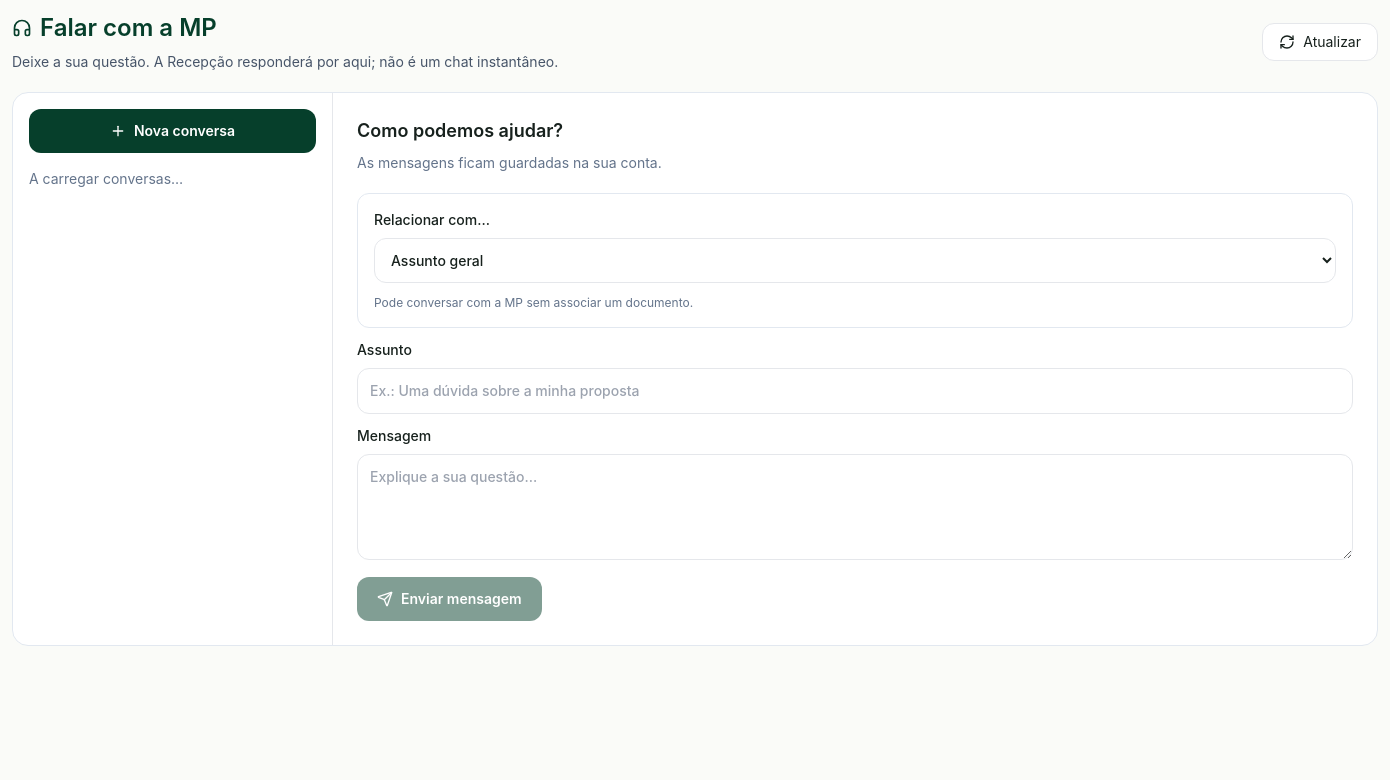
Scenario: SupportDesk › retains the message when sending fails
Type "Ajuda" into the field labelled "Assunto" at [855, 391], box [357, 368, 1353, 414]
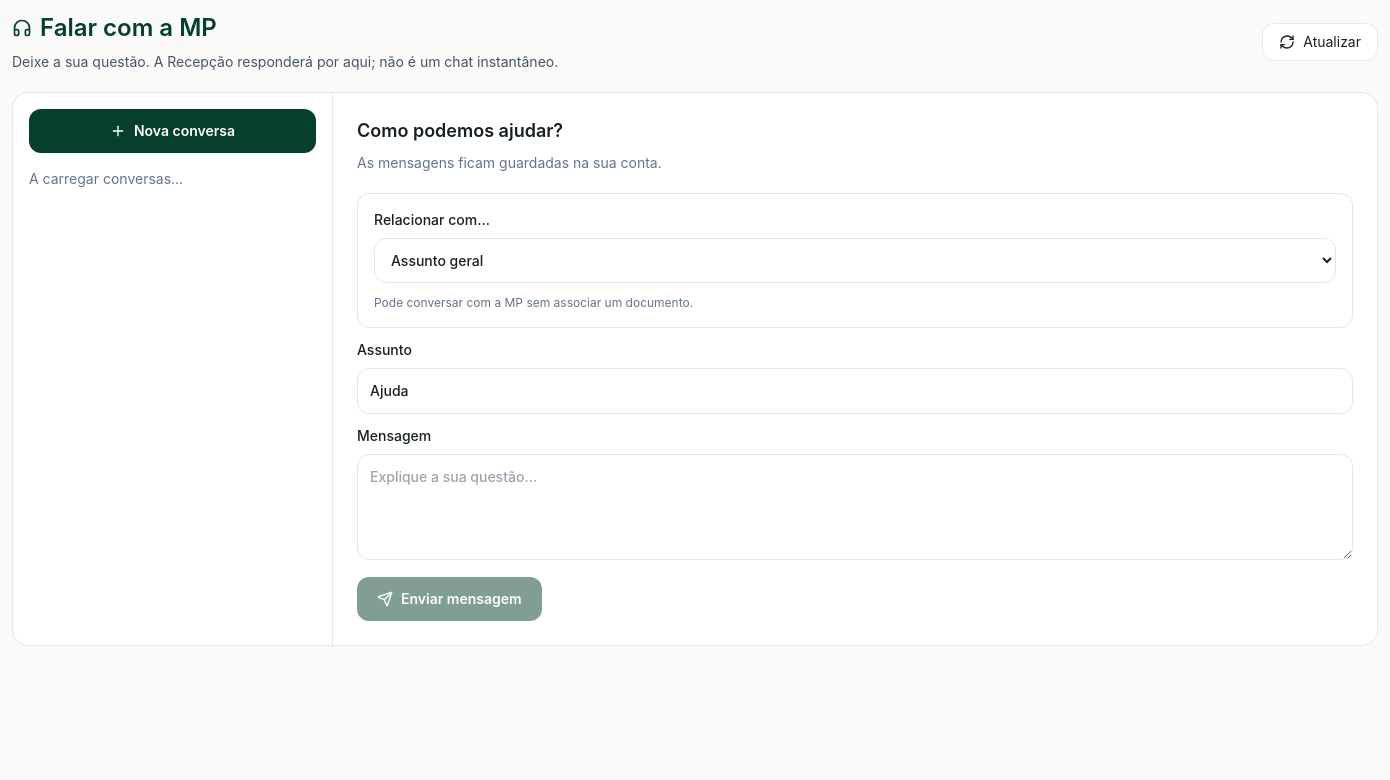
Type "Tenho uma dúvida." into the text box labelled "Mensagem" at [855, 507], box [357, 454, 1353, 560]
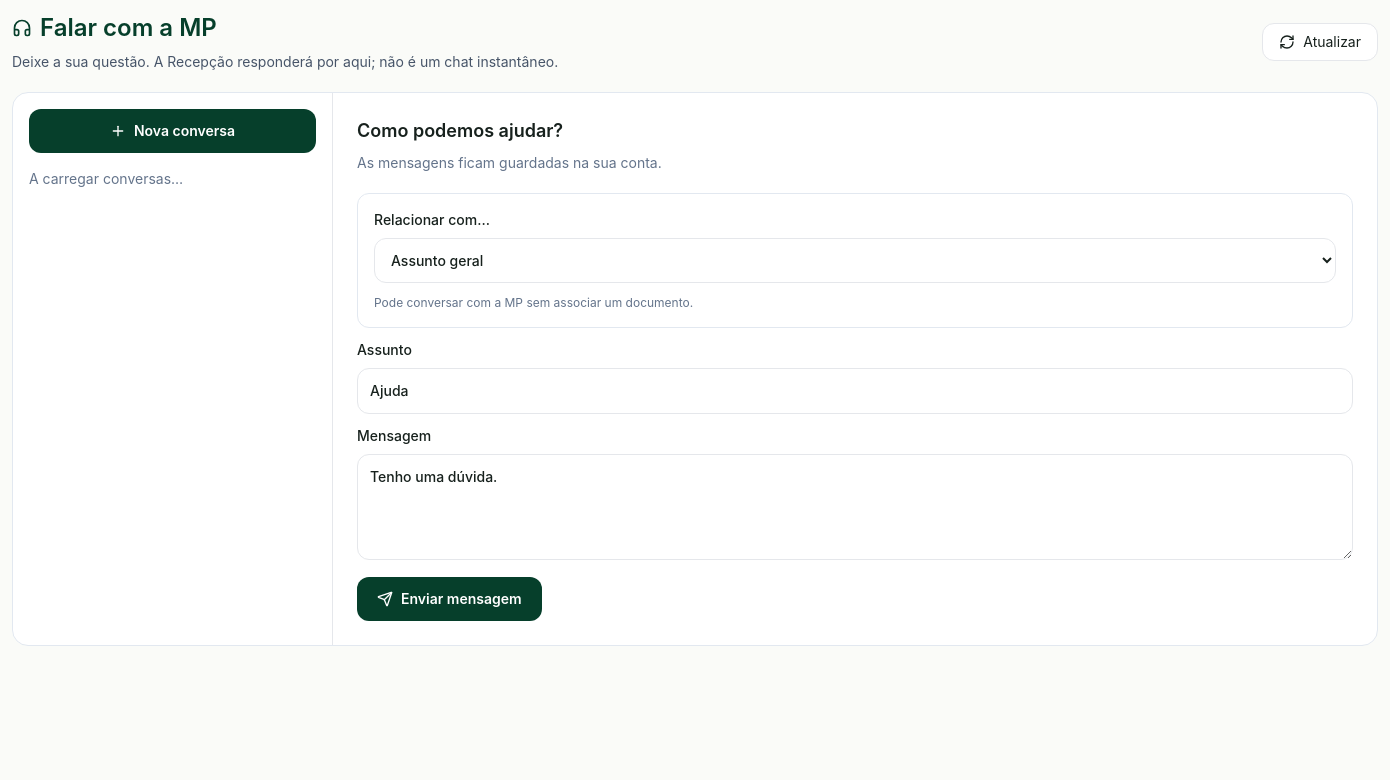
Click the button "Enviar mensagem" at [449, 599], box [357, 577, 542, 621]
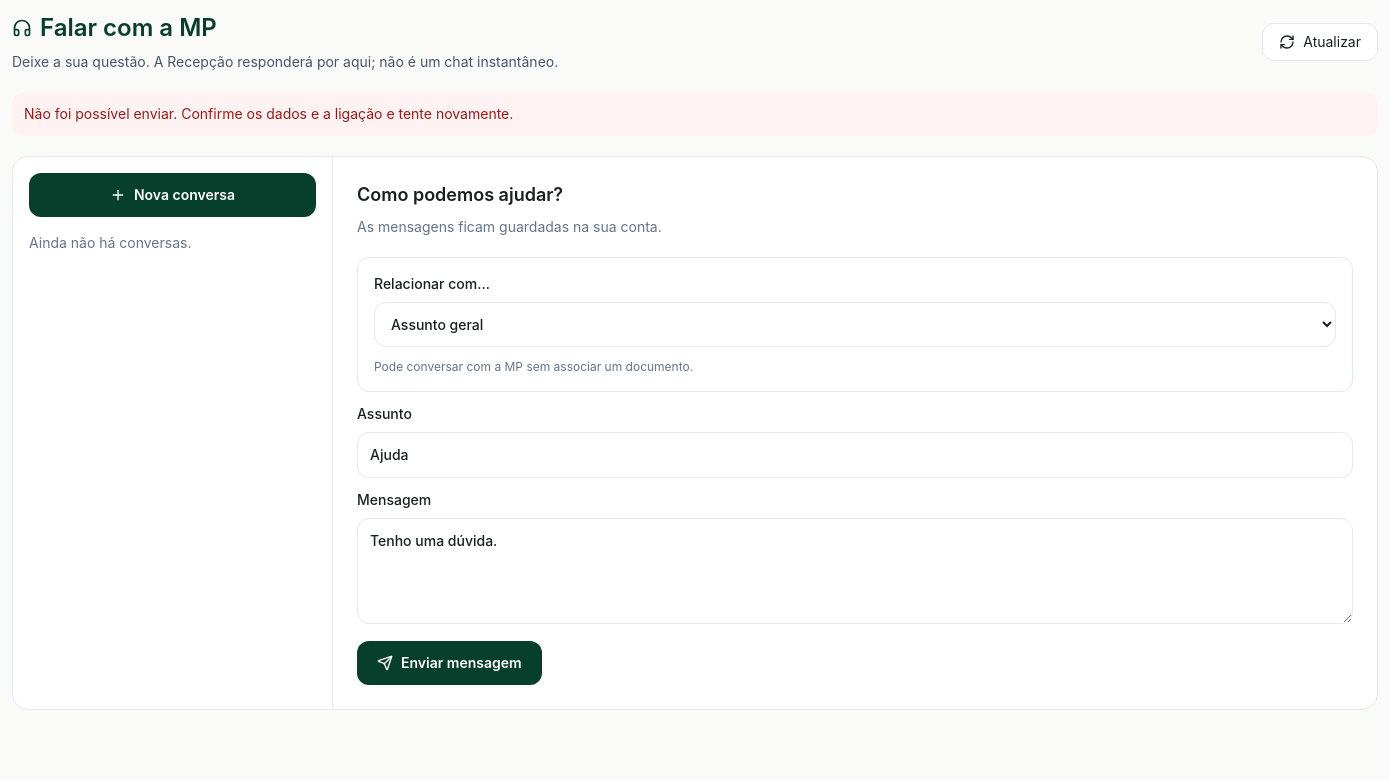
expect the message shows "Não foi possível enviar": met, box [24, 105, 513, 122]
